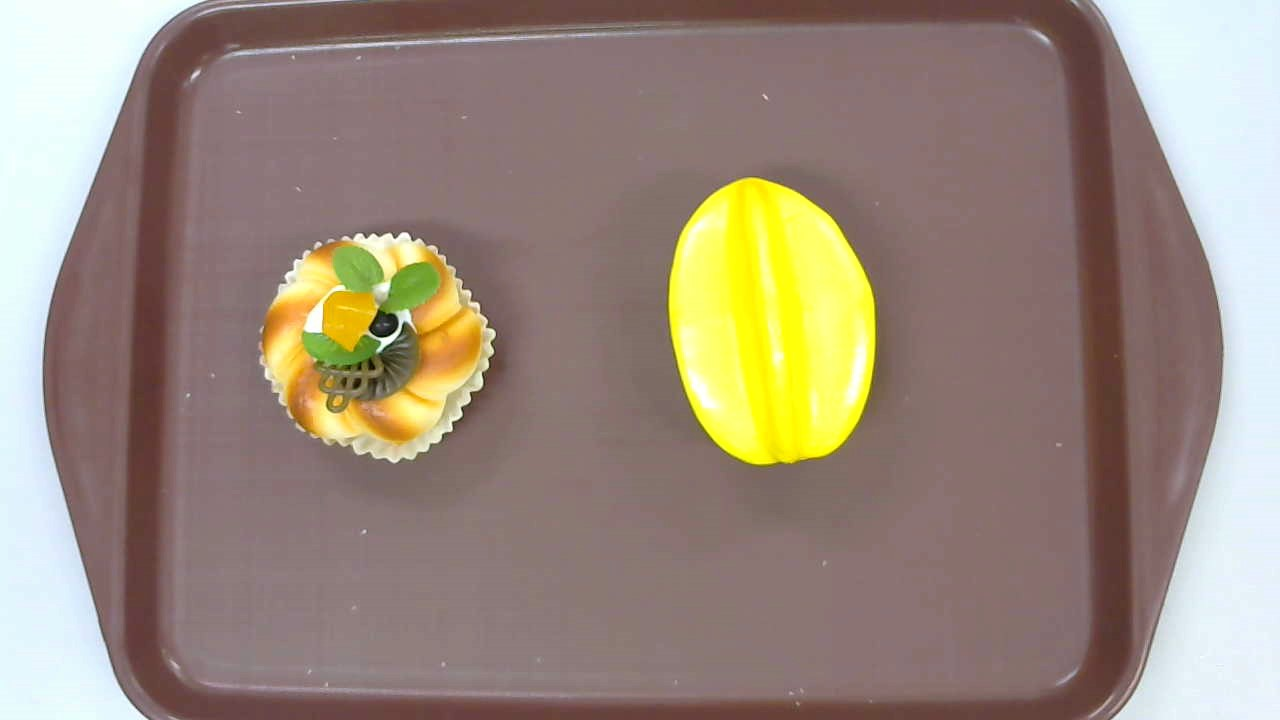fruit tart: (257, 232, 496, 467)
star fruit: (669, 176, 877, 466)
